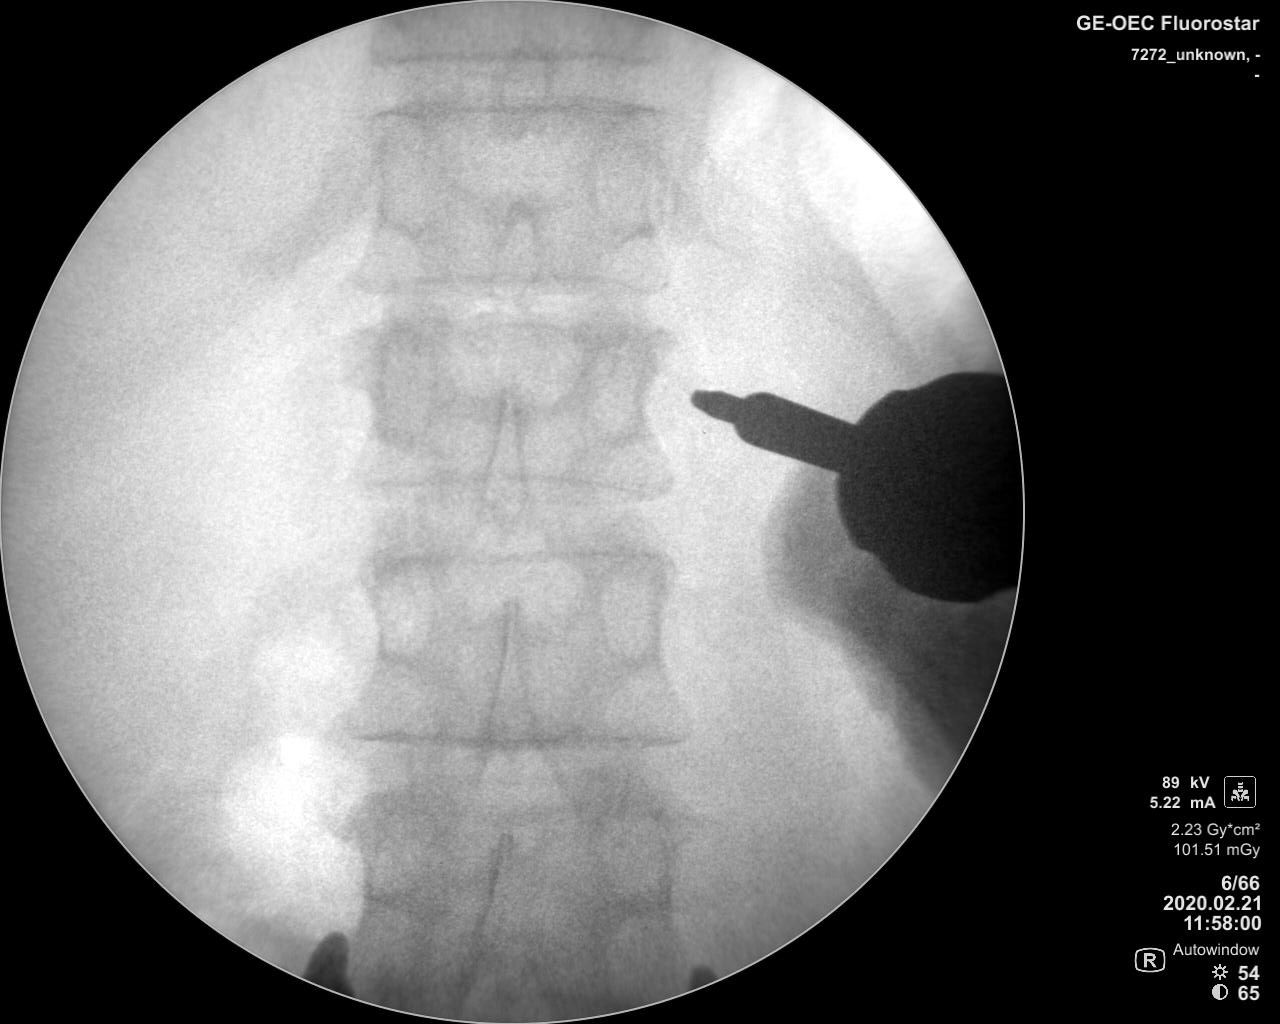eyes: (356, 321, 443, 445), (589, 115, 670, 236), (588, 800, 674, 913), (344, 806, 436, 907), (365, 121, 444, 237), (581, 325, 655, 447), (359, 555, 439, 658), (594, 556, 667, 665)
line: (335, 466, 681, 510), (330, 719, 696, 758), (343, 310, 680, 351), (340, 534, 678, 571), (338, 265, 674, 302), (360, 91, 676, 126), (360, 44, 681, 74)
nose: (480, 589, 543, 757), (472, 825, 528, 978), (476, 385, 532, 528), (487, 188, 541, 306), (496, 24, 546, 147)
